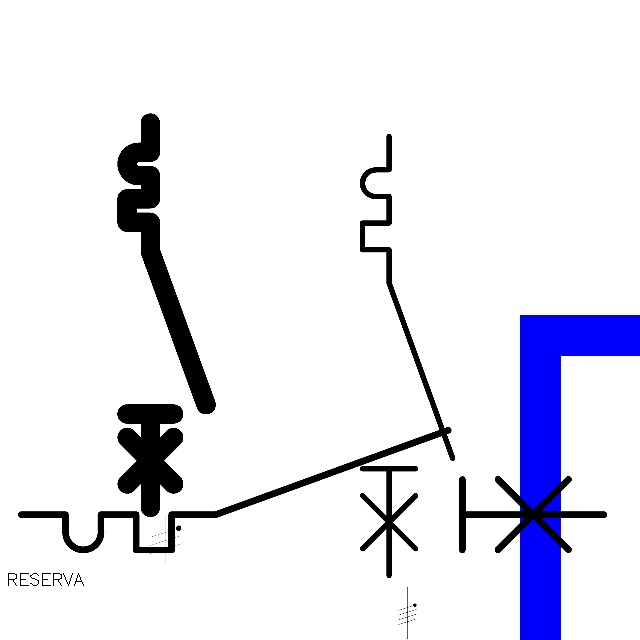interruptor_termomagnetico: (6, 415, 619, 565), (351, 125, 464, 587), (117, 113, 216, 517)
